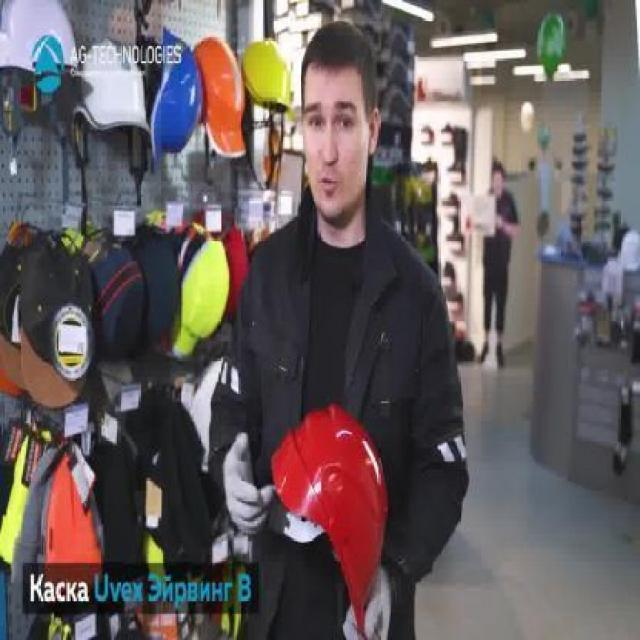Gloves: (221, 428, 276, 536), (342, 570, 391, 638)
Helmet: (268, 403, 390, 640), (149, 23, 206, 174), (75, 36, 152, 138), (192, 31, 248, 167), (0, 0, 82, 77), (242, 34, 296, 114)
